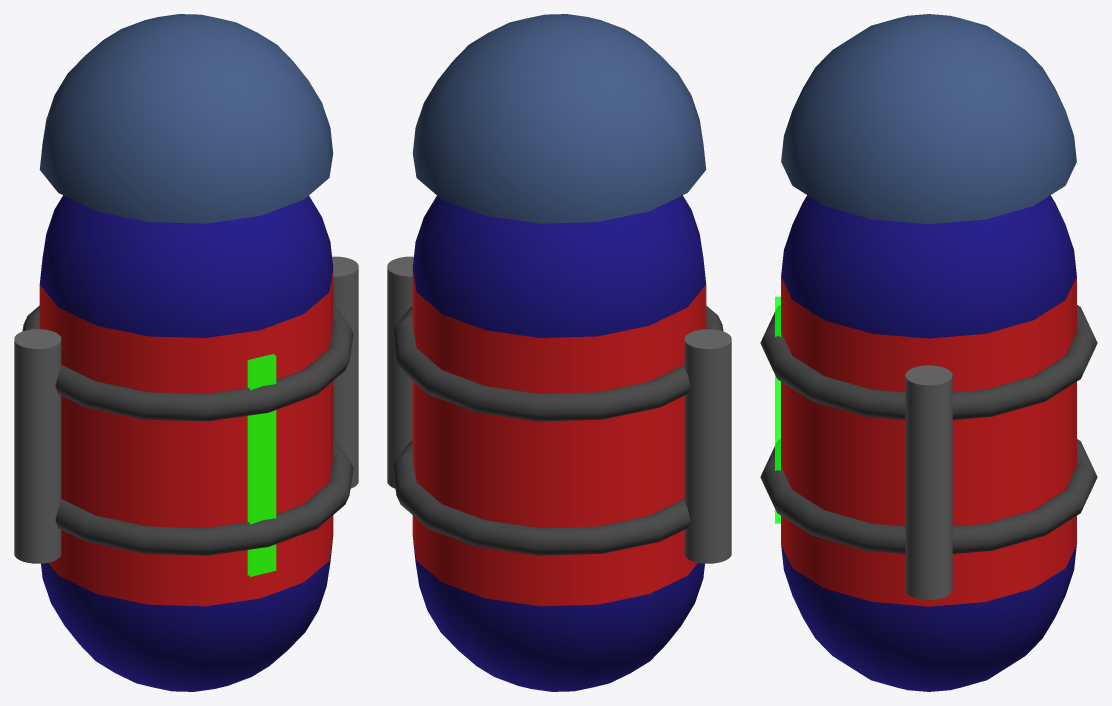
The model's file is Power_Module_red.glb.
3 views of the same model, side by side, from view 1: azimuth 30°, elevation 25°; view 2: azimuth 150°, elevation 25°; view 3: azimuth 270°, elevation 25° (orthographic).
Parts seen in each view (by area): view 1: Mesh_0, Mesh_Top_floater, Mesh_1, Mesh_1.001, Mesh_4.001, Mesh_3, Mesh_2, Mesh_5, Mesh_4; view 2: Mesh_0, Mesh_Top_floater, Mesh_1, Mesh_1.001, Mesh_4.001, Mesh_3, Mesh_2, Mesh_4; view 3: Mesh_0, Mesh_Top_floater, Mesh_1, Mesh_1.001, Mesh_4, Mesh_3, Mesh_2, Mesh_5.
Boxes of the visible parts, box(x1,y1,x2,y2) form: Mesh_0: box(39, 268, 333, 606); Mesh_Top_floater: box(39, 14, 333, 223); Mesh_1: box(39, 195, 333, 337); Mesh_1.001: box(41, 539, 332, 691); Mesh_4.001: box(14, 329, 61, 563); Mesh_3: box(22, 305, 353, 421); Mesh_2: box(55, 440, 353, 555); Mesh_5: box(247, 354, 276, 576); Mesh_4: box(332, 256, 358, 488); Mesh_0: box(412, 268, 706, 606); Mesh_Top_floater: box(412, 14, 706, 223); Mesh_1: box(412, 195, 706, 337); Mesh_1.001: box(413, 539, 704, 691); Mesh_4.001: box(684, 329, 731, 563); Mesh_3: box(392, 305, 723, 421); Mesh_2: box(392, 440, 690, 555); Mesh_4: box(387, 256, 413, 488); Mesh_0: box(781, 276, 1076, 606); Mesh_Top_floater: box(781, 14, 1076, 224); Mesh_1: box(781, 195, 1076, 338); Mesh_1.001: box(781, 544, 1076, 691); Mesh_4: box(905, 365, 952, 599); Mesh_3: box(760, 305, 1097, 419); Mesh_2: box(760, 439, 1097, 553); Mesh_5: box(775, 296, 780, 523).
Size of the model in its own units: 1.32 by 2.43 by 1.14.
